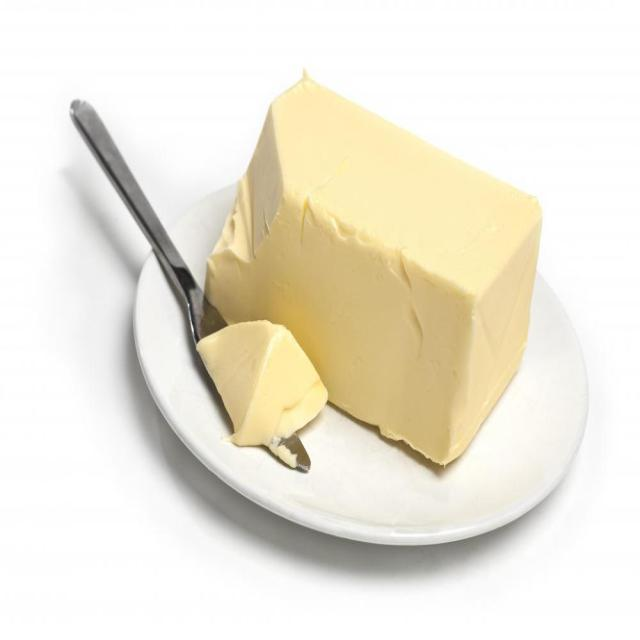Butter: (210, 83, 538, 456)
